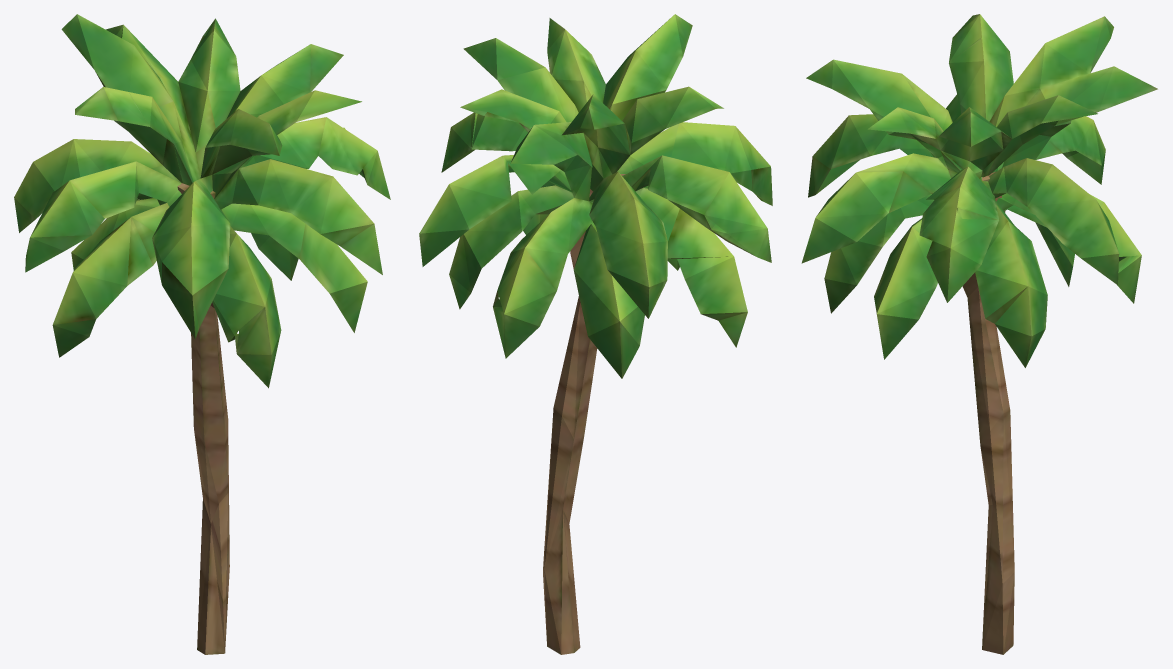
File: palm_a_far.glb
3 renders of one model, left to right at view 1: azimuth 30°, elevation 25°; view 2: azimuth 150°, elevation 25°; view 3: azimuth 270°, elevation 25°, orthographic. The views are drawn at different scales.
Parts seen in each view (by area): view 1: body; view 2: body; view 3: body.
Part boxes in pixels (bbox=[...]): body: bbox=[14, 14, 390, 654]; body: bbox=[419, 14, 772, 654]; body: bbox=[801, 14, 1157, 654].
Size of the model in its own units: 5.14 by 8.56 by 4.66.
Materials: 2 (2 with a texture image).
